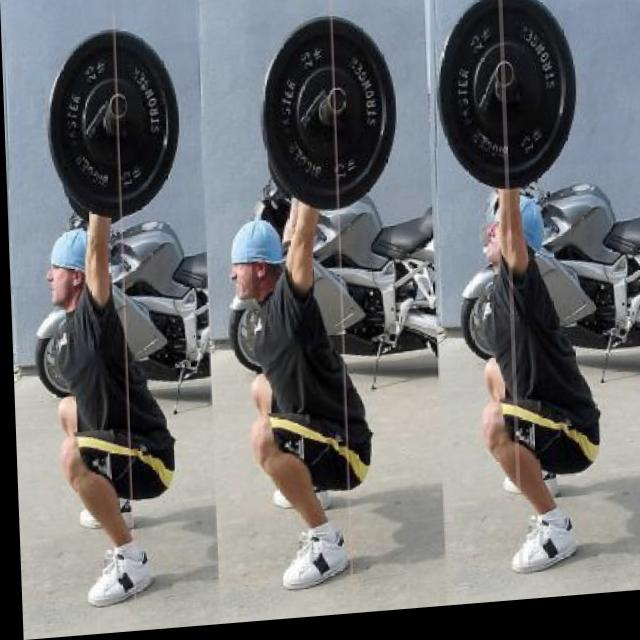barbell: (432, 1, 582, 209), (252, 13, 397, 224), (40, 25, 184, 229)
